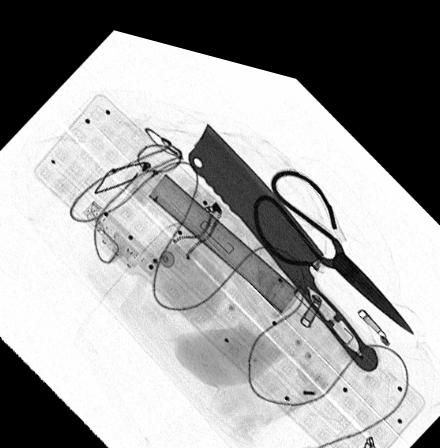Knife: (187, 112, 378, 351)
Scissors: (253, 155, 415, 312)
